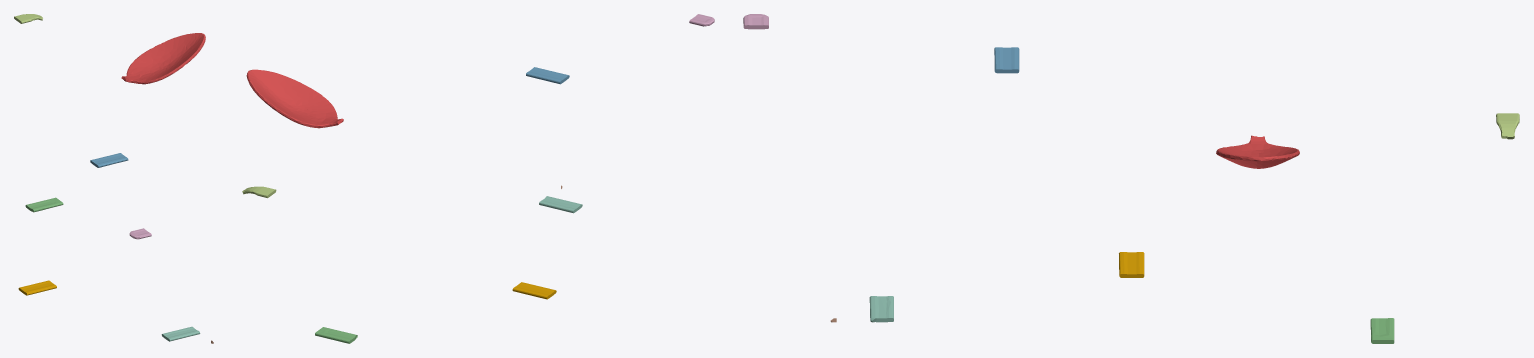
File: mode_10_8pcs_transformed.glb
3 renders of one model, left to right at view 1: azimuth 30°, elevation 25°; view 2: azimuth 150°, elevation 25°; view 3: azimuth 270°, elevation 25°, orthographic. The views are drawn at different scales.
Visible parts, largest first — view 1: piece_1.obj, piece_0.obj, piece_2.obj, piece_4.obj, piece_3.obj, piece_5.obj, piece_6.obj; view 2: piece_1.obj, piece_0.obj, piece_2.obj, piece_4.obj, piece_3.obj; view 3: piece_1.obj, piece_2.obj, piece_0.obj, piece_4.obj, piece_3.obj.
Part boxes in pixels (x1=…): piece_1.obj: x1=121, y1=33, x2=205, y2=84; piece_0.obj: x1=18, y1=280, x2=56, y2=295; piece_2.obj: x1=90, y1=153, x2=128, y2=167; piece_4.obj: x1=161, y1=326, x2=200, y2=341; piece_3.obj: x1=25, y1=197, x2=63, y2=212; piece_5.obj: x1=14, y1=14, x2=42, y2=23; piece_6.obj: x1=129, y1=228, x2=151, y2=239; piece_1.obj: x1=246, y1=69, x2=343, y2=128; piece_0.obj: x1=512, y1=282, x2=556, y2=299; piece_2.obj: x1=526, y1=67, x2=569, y2=84; piece_4.obj: x1=539, y1=196, x2=582, y2=213; piece_3.obj: x1=315, y1=327, x2=357, y2=343; piece_1.obj: x1=1216, y1=135, x2=1299, y2=168; piece_2.obj: x1=994, y1=47, x2=1019, y2=73; piece_0.obj: x1=1119, y1=252, x2=1144, y2=277; piece_4.obj: x1=869, y1=296, x2=893, y2=322; piece_3.obj: x1=1370, y1=318, x2=1394, y2=343.
Bounding box in the file's own units: 1 × 0.6935 × 1.86.
